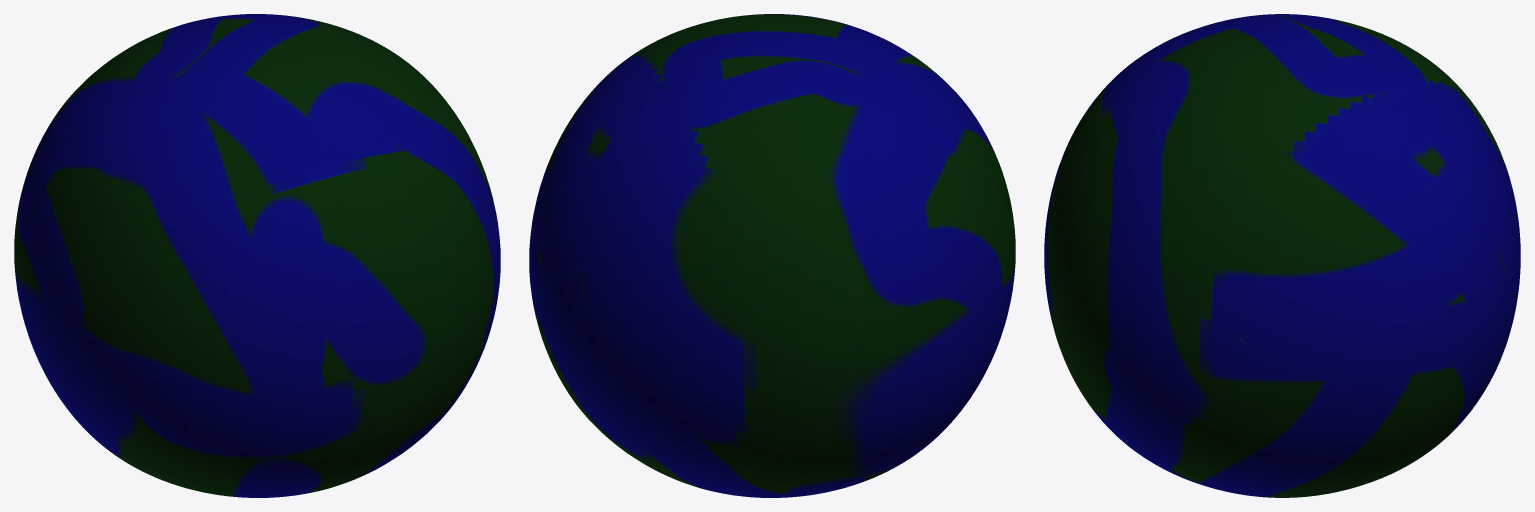
File: earth.obj
The picture shows the model from 3 angles, left to right: view 1: azimuth 30°, elevation 25°; view 2: azimuth 150°, elevation 25°; view 3: azimuth 270°, elevation 25°; orthographic projection.
Parts seen in each view (by area): view 1: Cube; view 2: Cube; view 3: Cube.
Part boxes in pixels (x1,y1,x2,y2): Cube: (14,14,500,497); Cube: (529,14,1015,497); Cube: (1044,14,1520,497).
Size of the model in its own units: 1.68 by 1.68 by 1.68.
